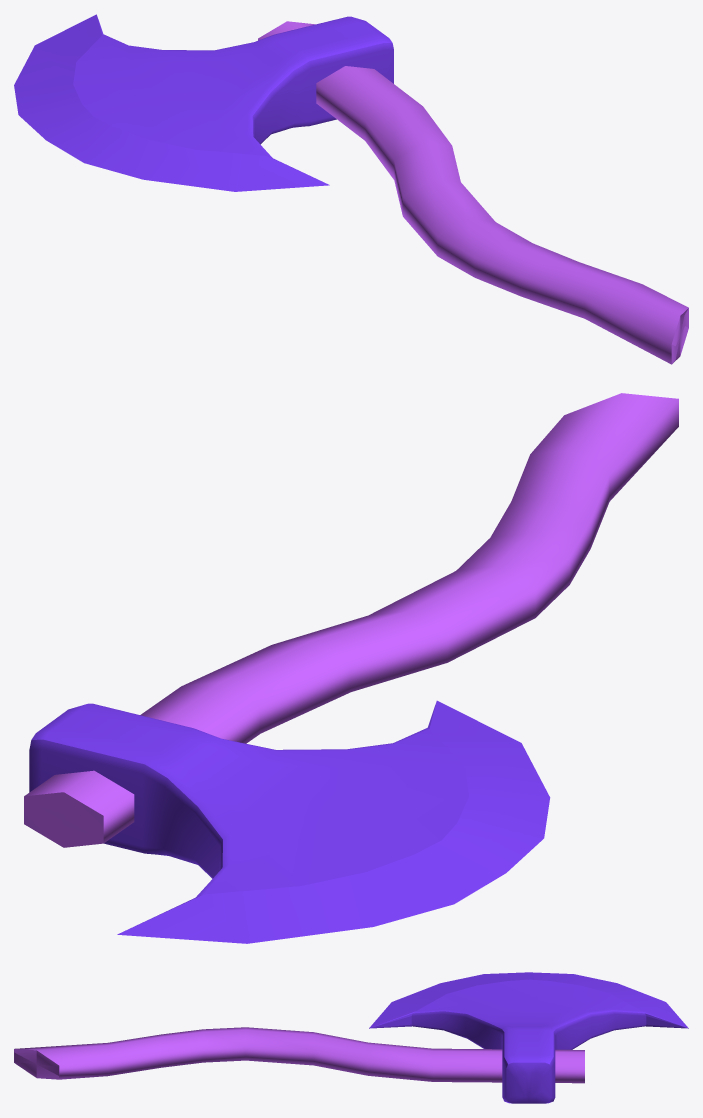
File: Axe_3.fbx
The picture shows the model from 3 angles, top to bottom: view 1: azimuth 30°, elevation 25°; view 2: azimuth 150°, elevation 25°; view 3: azimuth 270°, elevation 25°; orthographic projection. The views are drawn at different scales.
Parts seen in each view (by area): view 1: Axe_3; view 2: Axe_3; view 3: Axe_3.
Boxes of the visible parts, bbox=[...] form: Axe_3: bbox=[14, 14, 688, 364]; Axe_3: bbox=[24, 393, 678, 943]; Axe_3: bbox=[14, 972, 688, 1103].
Bounding box in the file's own units: 5.02 × 1 × 12.74.
